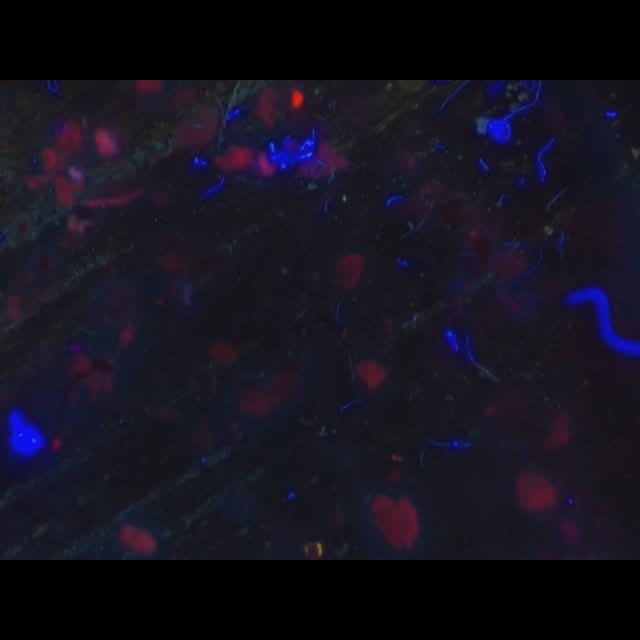Fragment: (372, 492, 421, 548)
